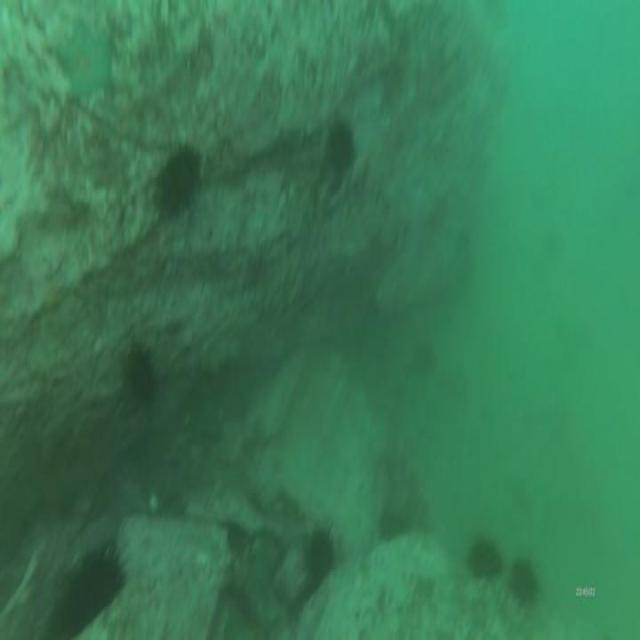echinus: (61, 537, 129, 623), (156, 138, 206, 218), (118, 337, 161, 414), (300, 514, 338, 583), (506, 552, 540, 621), (322, 119, 362, 177), (464, 530, 505, 586)
